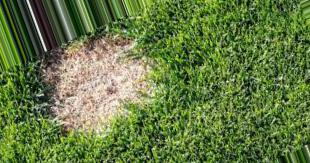patch: (49, 75, 121, 98), (46, 110, 124, 129), (81, 48, 142, 68), (130, 75, 140, 92)
